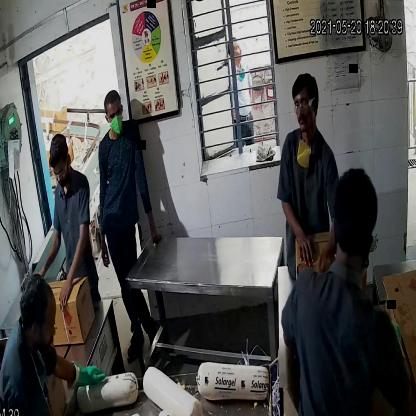goggles: (290, 94, 320, 117)
no_goggles: (103, 103, 125, 122)
